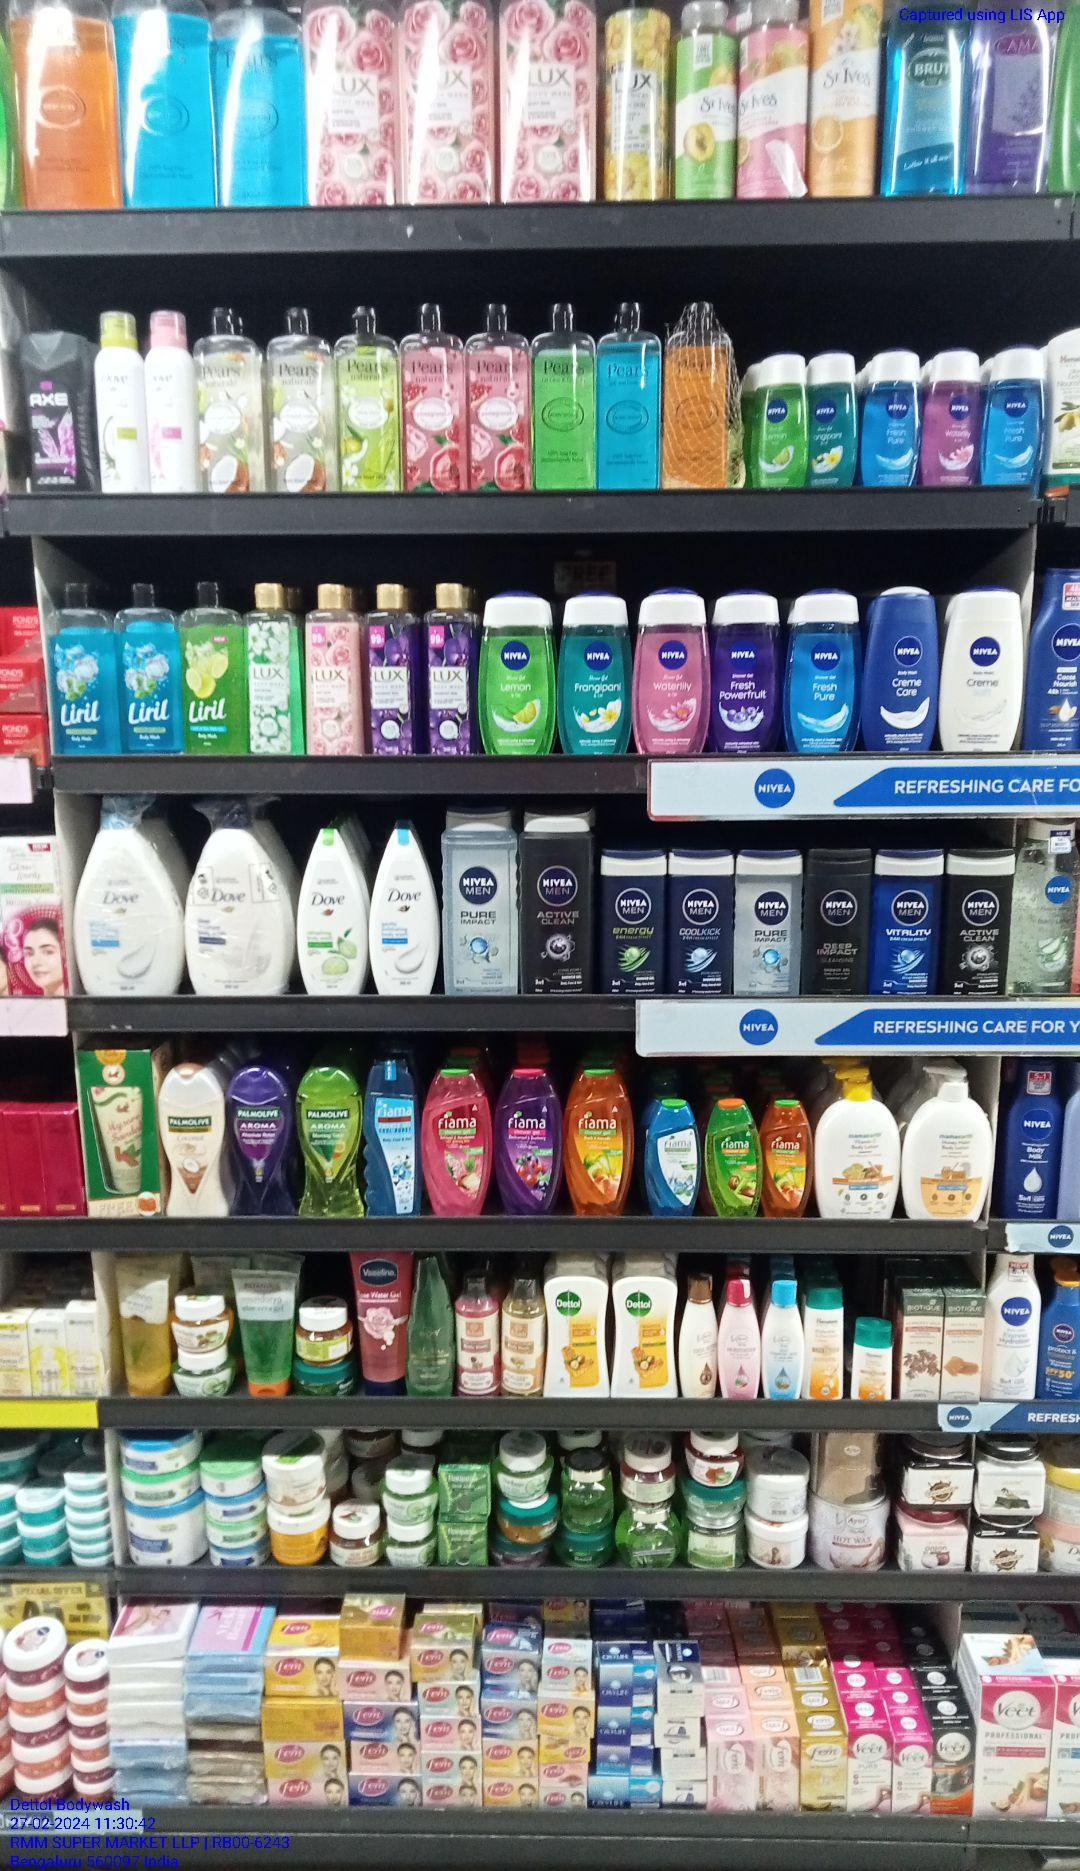Dettol_Nourish_Body_Wash_250ML: (615, 1253, 679, 1399), (546, 1257, 609, 1402)
Dove_Refreshing_Body_Wash_250ML: (372, 829, 440, 997), (298, 828, 364, 997)
Fiama_Shower_Gel_Lemongrass_and_Jojoba_250ML: (708, 1097, 759, 1217)
Fiama_Shower_Gel_Patchouli_and_Macadamia_250ML: (427, 1067, 489, 1218)
Fiama_Shower_Gel_Peach_and_Avocado_250ML: (564, 1068, 627, 1216), (764, 1097, 813, 1221)
Liril_Cooling_Mint_Body_Wash_250ML: (50, 581, 113, 757), (118, 580, 179, 753)
Liril_Lime_and_Tea_Tree_Oil_Body_Wash_250ML: (183, 574, 242, 754)
Lux_Black_Orchid_Scent_and_Juniper_Oil_Body_Wash_245ML: (361, 580, 417, 758), (420, 578, 474, 757)
Lux_Body_Wash_Skin_Detox_Freesia_Scent_and_Alove_Vera_245ML: (246, 578, 301, 759)
Nivea_Creme_Care_Body_Wash_250ML: (865, 583, 936, 753)
Nivea_Creme_Soft_Body_Wash_250ML: (944, 583, 1020, 754)
Nivea_Shower_Gel_Frangipani_and_Oil_250ML: (561, 589, 635, 758), (809, 347, 856, 493)
Nivea_Shower_Gel_Fresh_Powerfruit_250ML: (711, 587, 779, 753)
Nivea_Shower_Gel_Lemon_and_Oil_250ML: (480, 590, 558, 762), (753, 351, 807, 492)
Nivea_Shower_Gel_Waterlily_and_Oil_250ML: (639, 587, 705, 758), (924, 346, 982, 493)
Palmolive_Aroma_Morning_Tonic_Shower_Gel_250ML: (297, 1064, 363, 1219)
Palmolive_Aroma_Relax_250ML: (229, 1068, 293, 1219)
Palmolive_Coconut_Joy_Exfoliating_Body_Wash_250ML: (159, 1064, 226, 1219)
Pears_Naturale_Aloe_Vera_Body_Wash_250ML: (337, 303, 402, 493)
Pears_Pure_Glycerin_and_Lemon_Flower_Extracts_Body_Wash_250ML: (531, 301, 595, 490)
Pears_Pure_Glycerin_and_Mint_Extracts_Body_Wash_250ML: (599, 297, 658, 493)
